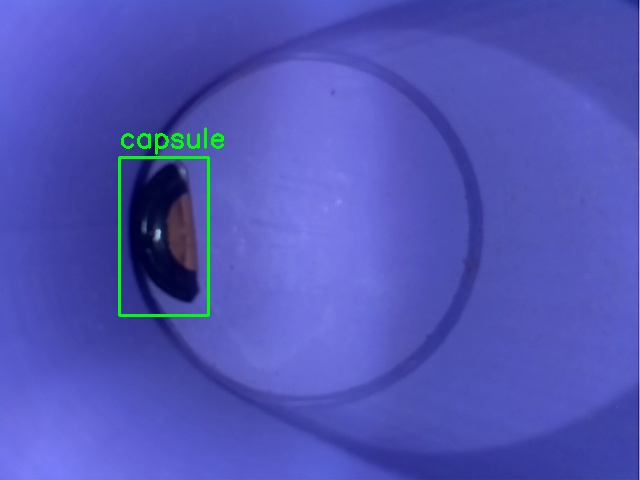capsule: (119, 157, 208, 315)
